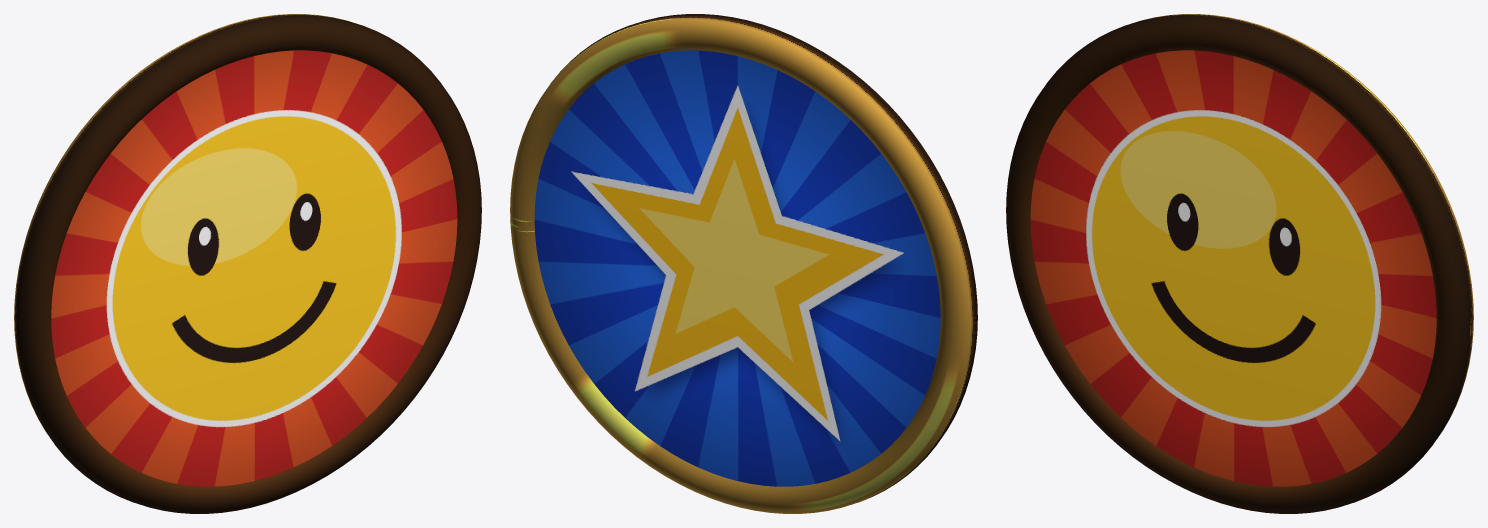
The model's file is sign_board.glb.
3 views of the same model, side by side, from view 1: azimuth 30°, elevation 25°; view 2: azimuth 150°, elevation 25°; view 3: azimuth 330°, elevation 25° (orthographic).
Parts seen in each view (by area): view 1: sign_board; view 2: sign_board; view 3: sign_board.
Boxes of the visible parts, x1,y1,x2,y2 form: sign_board: (14,14,481,513); sign_board: (510,14,977,513); sign_board: (1006,14,1473,513).
Bounding box in the file's own units: 0.127 × 0.127 × 0.009.
4 materials, 4 textured.
